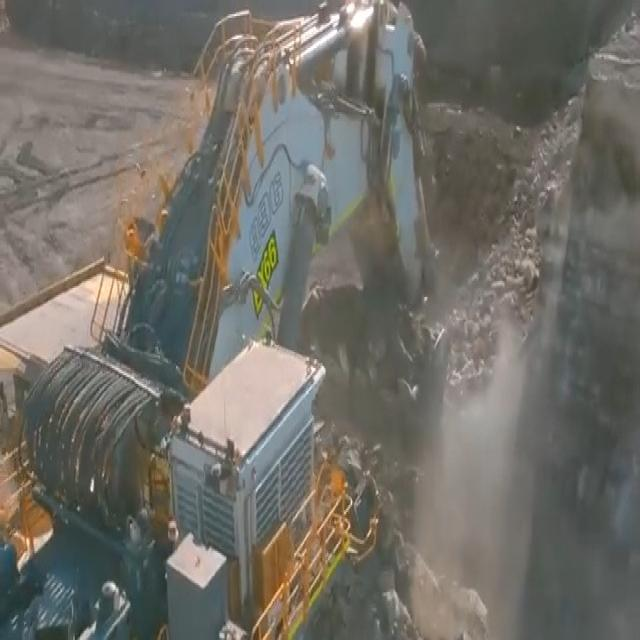excavator: (2, 3, 448, 640)
